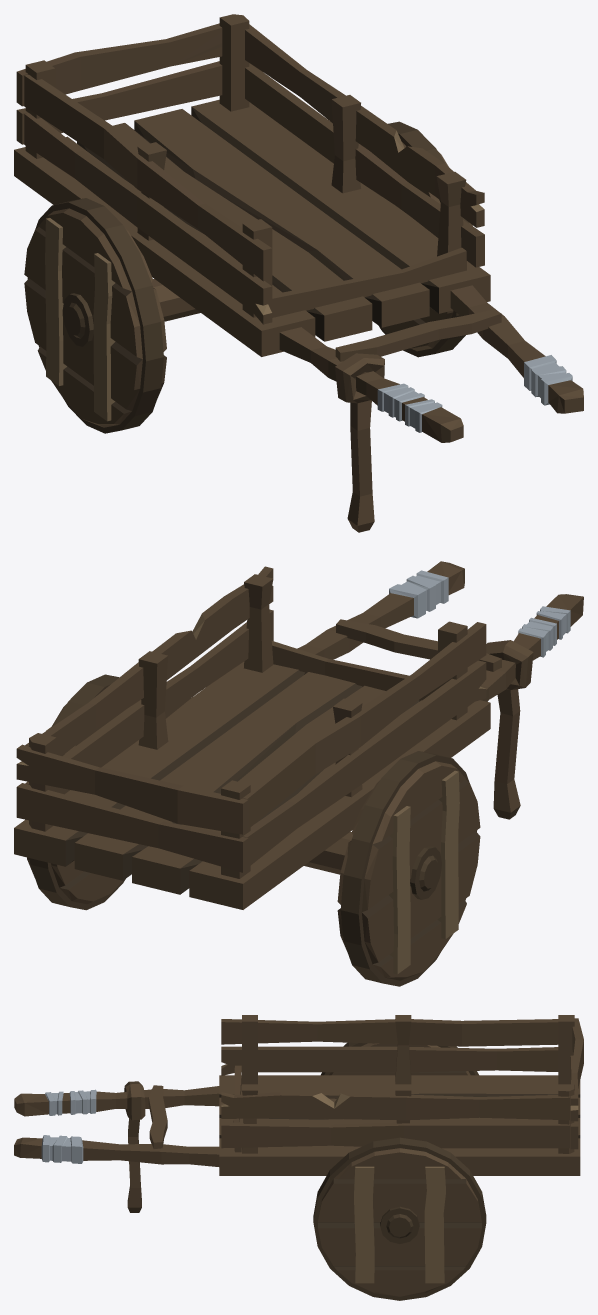
File: SM_Prop_Cart_01.fbx
The picture shows the model from 3 angles, top to bottom: view 1: azimuth 30°, elevation 25°; view 2: azimuth 150°, elevation 25°; view 3: azimuth 270°, elevation 25°; orthographic projection. The views are drawn at different scales.
Visible parts, largest first — view 1: SM_Prop_Cart_01; view 2: SM_Prop_Cart_01; view 3: SM_Prop_Cart_01.
Part boxes in pixels (<box>): SM_Prop_Cart_01: <box>14,14,583,532</box>; SM_Prop_Cart_01: <box>14,561,583,986</box>; SM_Prop_Cart_01: <box>14,1015,583,1300</box>.
Size of the model in its own units: 0.0167 by 0.0115 by 0.0315.
Materials: 1 (1 with a texture image).
